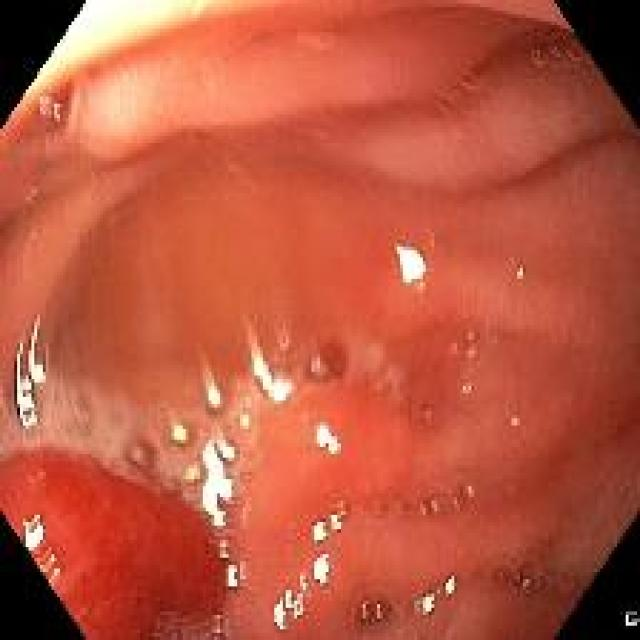blur: (2, 2, 637, 635)
bubbles: (0, 385, 261, 540), (369, 478, 482, 530), (494, 559, 564, 597), (531, 33, 591, 75), (145, 609, 226, 639), (434, 69, 481, 116), (353, 588, 398, 629), (303, 346, 349, 386), (37, 96, 71, 131), (125, 438, 158, 473), (458, 324, 481, 366), (414, 400, 439, 431), (454, 374, 475, 404), (162, 476, 183, 498), (336, 499, 352, 524)
saturation: (28, 1, 223, 85)
specularity: (12, 316, 51, 436), (241, 327, 296, 411), (202, 440, 243, 536), (268, 582, 312, 629), (16, 512, 54, 553), (395, 243, 427, 290), (197, 362, 224, 414), (306, 508, 326, 549), (222, 559, 242, 598), (166, 417, 190, 448), (312, 553, 332, 590), (315, 423, 339, 452), (413, 590, 436, 619), (329, 506, 341, 542), (184, 460, 200, 487), (49, 552, 63, 580), (442, 579, 460, 598), (512, 261, 526, 285), (523, 577, 529, 586)
